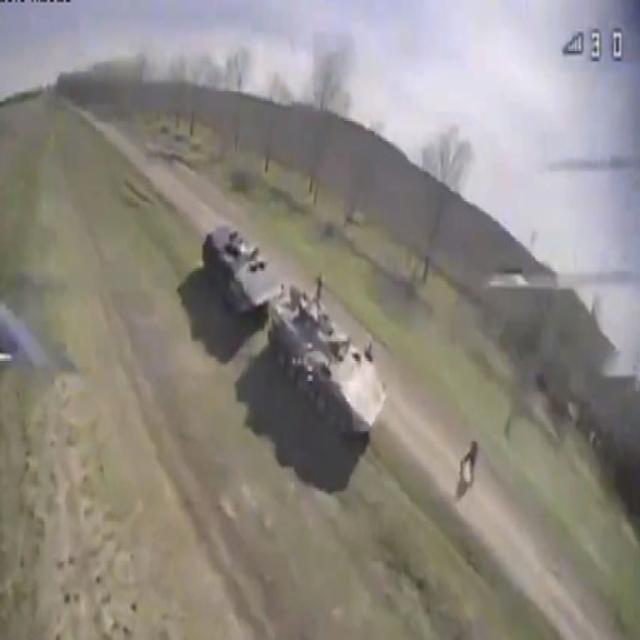APC-IFV: (268, 274, 388, 442), (199, 209, 281, 322)
